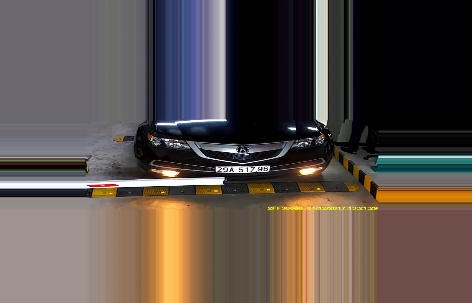plate: (215, 163, 268, 175)
